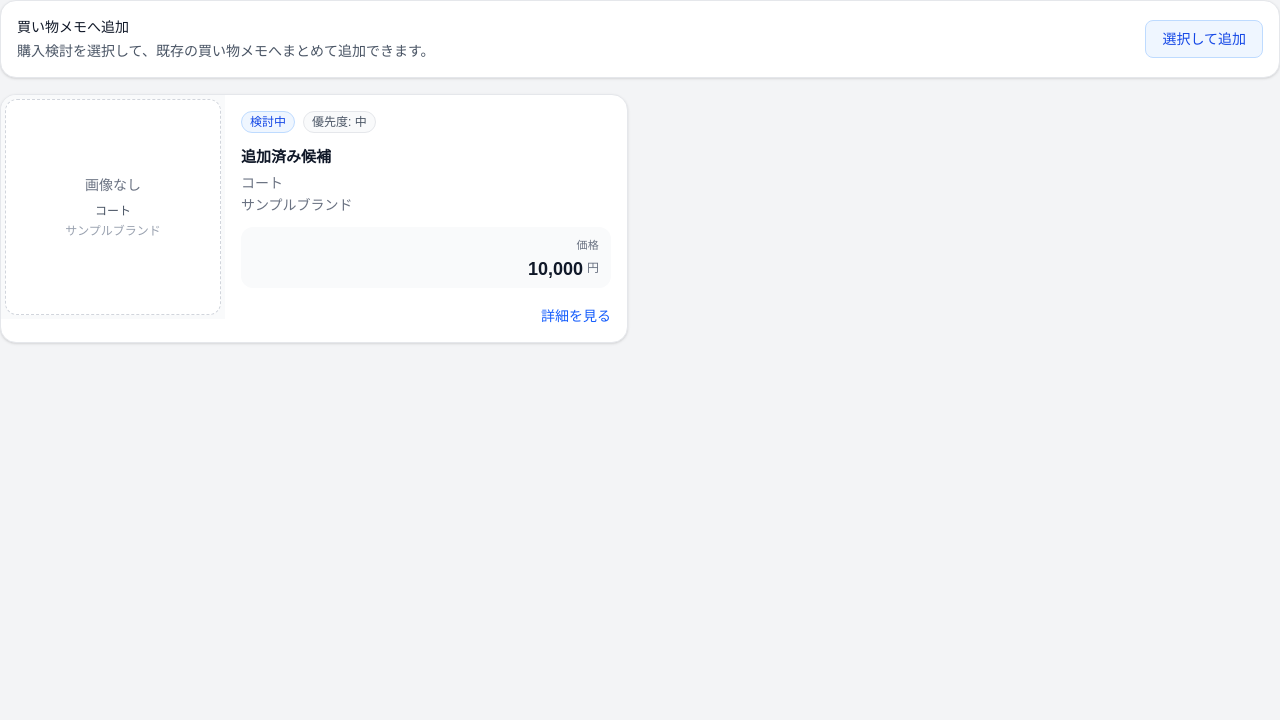
Test: PurchaseCandidateShoppingMemoBulkAdd › 変更がない場合は変更を反映が disabled になる
This screenshot has width=1280, height=720.
Click the button "選択して追加" at (1204, 39), box [1145,20,1263,58]
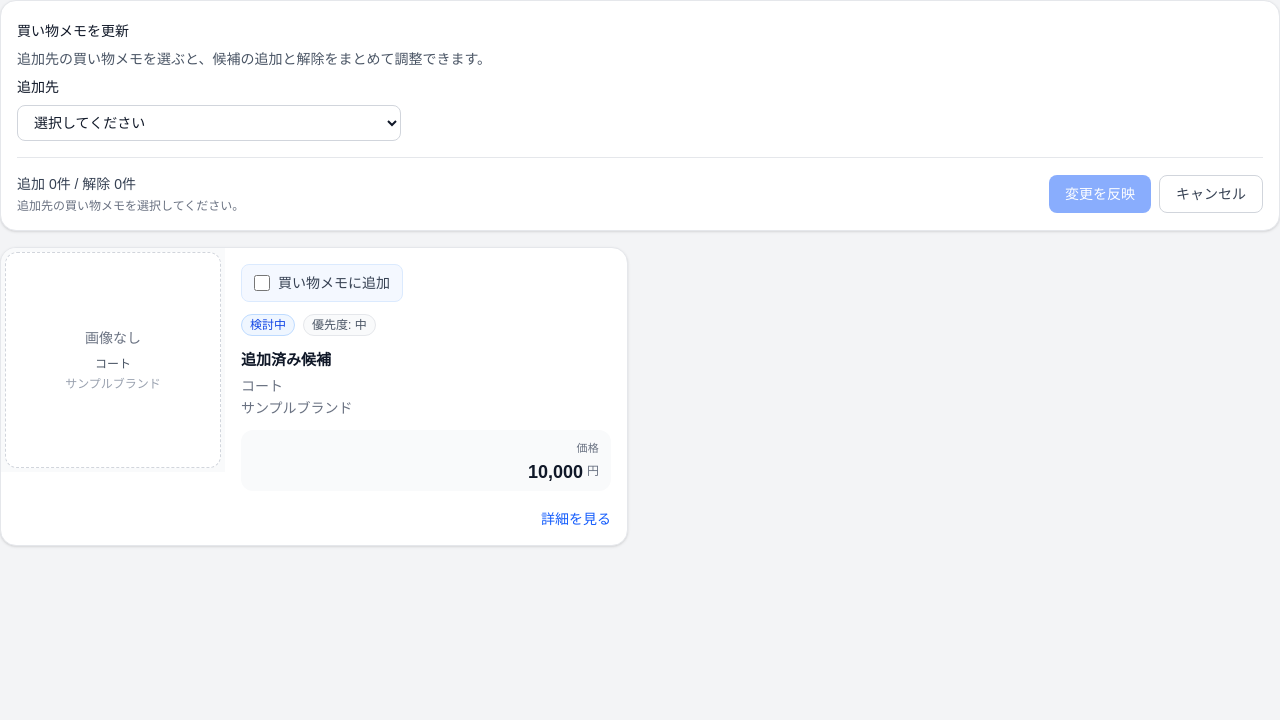
Select "春夏物" in the dropdown labelled "追加先" at (209, 123), box [17,105,401,141]
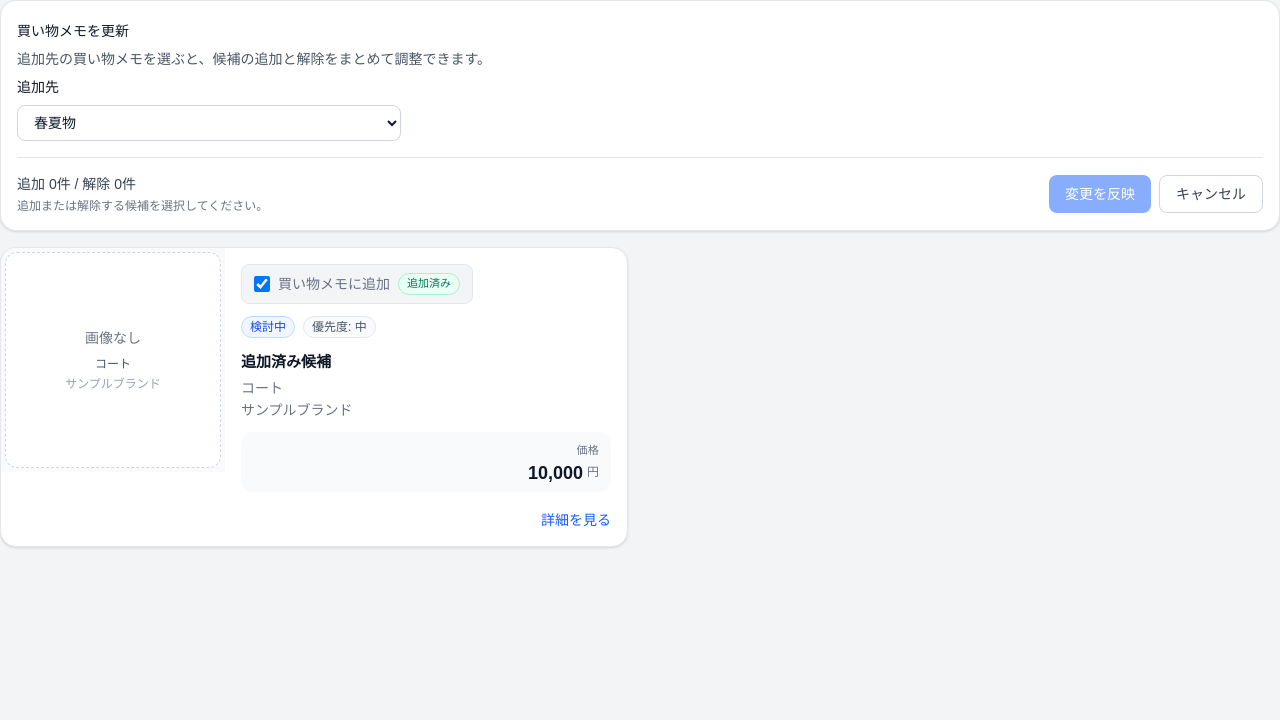
Expected: the button "変更を反映" is disabled, [1049,175,1151,213]
Expected: the text "追加または解除する候補を選択してください。" is shown, [17,198,268,214]
